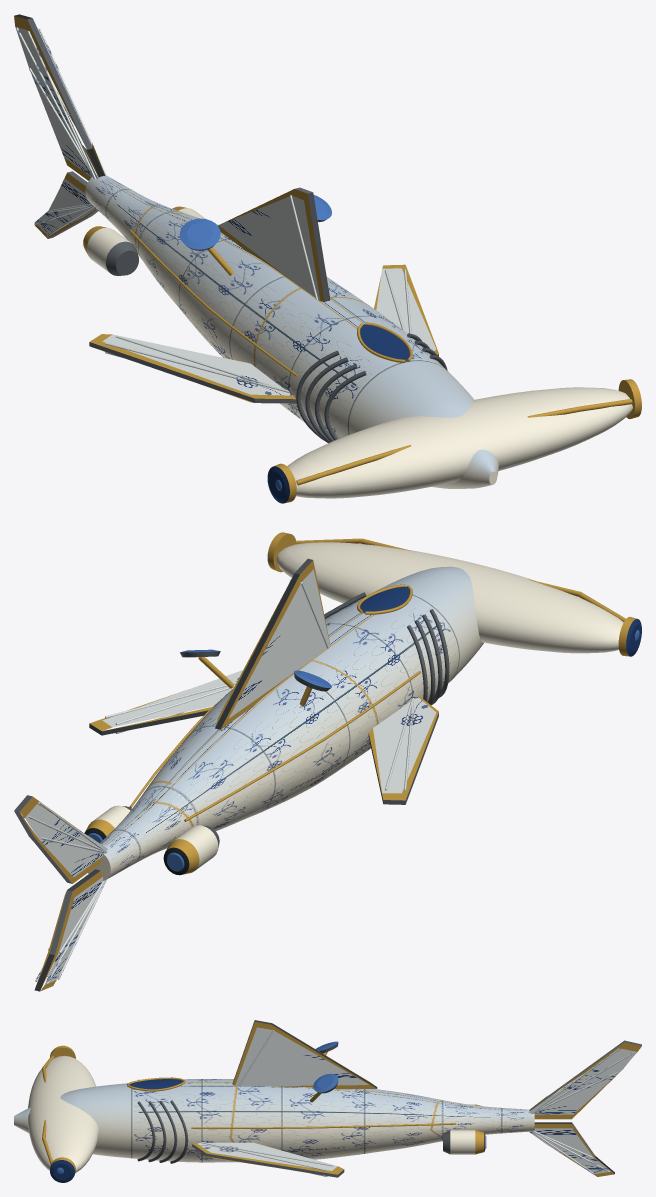
3 views of the same model, one above another, from view 1: azimuth 30°, elevation 25°; view 2: azimuth 150°, elevation 25°; view 3: azimuth 270°, elevation 25° (orthographic). The views are drawn at different scales.
Visible parts, largest first — view 1: hammerhead_hull; view 2: hammerhead_hull; view 3: hammerhead_hull.
Part boxes in pixels (box(x1,y1,x2,y2)): hammerhead_hull: box(14, 14, 641, 503); hammerhead_hull: box(14, 532, 641, 991); hammerhead_hull: box(14, 1020, 641, 1182).
Bounding box in the file's own units: 34.14 × 21.29 × 78.
1 material, 1 textured.
